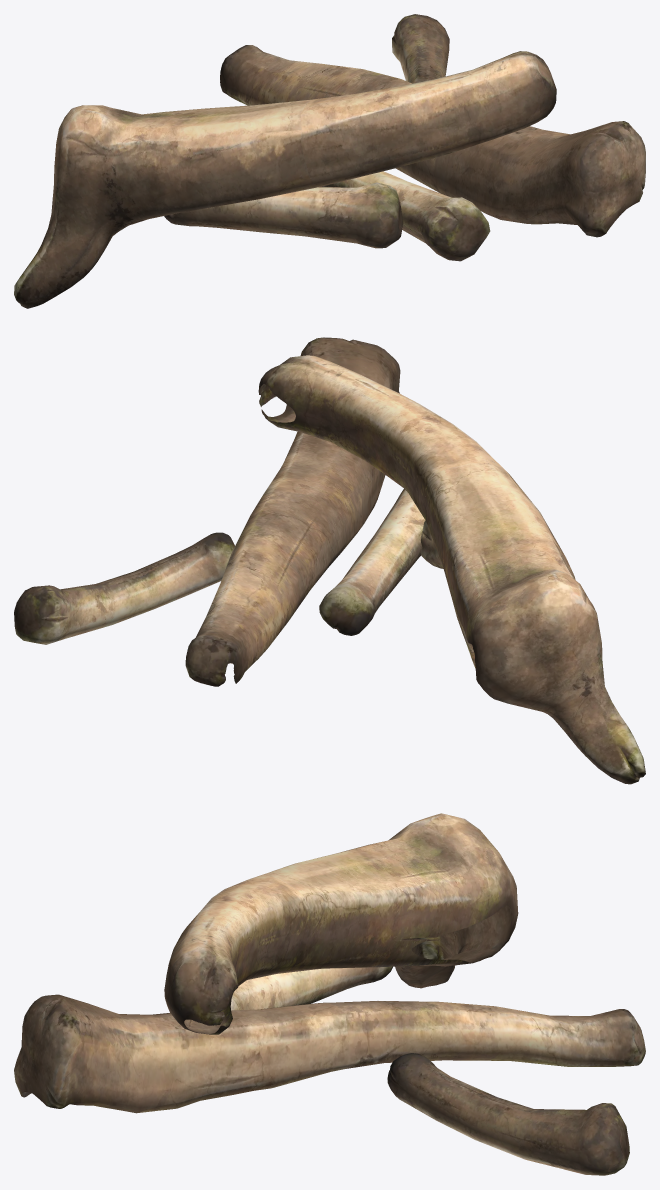
3 renders of one model, top to bottom at view 1: azimuth 30°, elevation 25°; view 2: azimuth 150°, elevation 25°; view 3: azimuth 270°, elevation 25°, orthographic. The views are drawn at different scales.
Visible parts, largest first — view 1: SM_Dragon_Generic_Bones_02_LOD0; view 2: SM_Dragon_Generic_Bones_02_LOD0; view 3: SM_Dragon_Generic_Bones_02_LOD0.
Part boxes in pixels (x1,y1,x2,y2): SM_Dragon_Generic_Bones_02_LOD0: [14, 14, 645, 308]; SM_Dragon_Generic_Bones_02_LOD0: [14, 337, 645, 784]; SM_Dragon_Generic_Bones_02_LOD0: [14, 813, 645, 1175].
Bounding box in the file's own units: 10.9 × 4.68 × 10.14.
3 materials, 3 textured.
